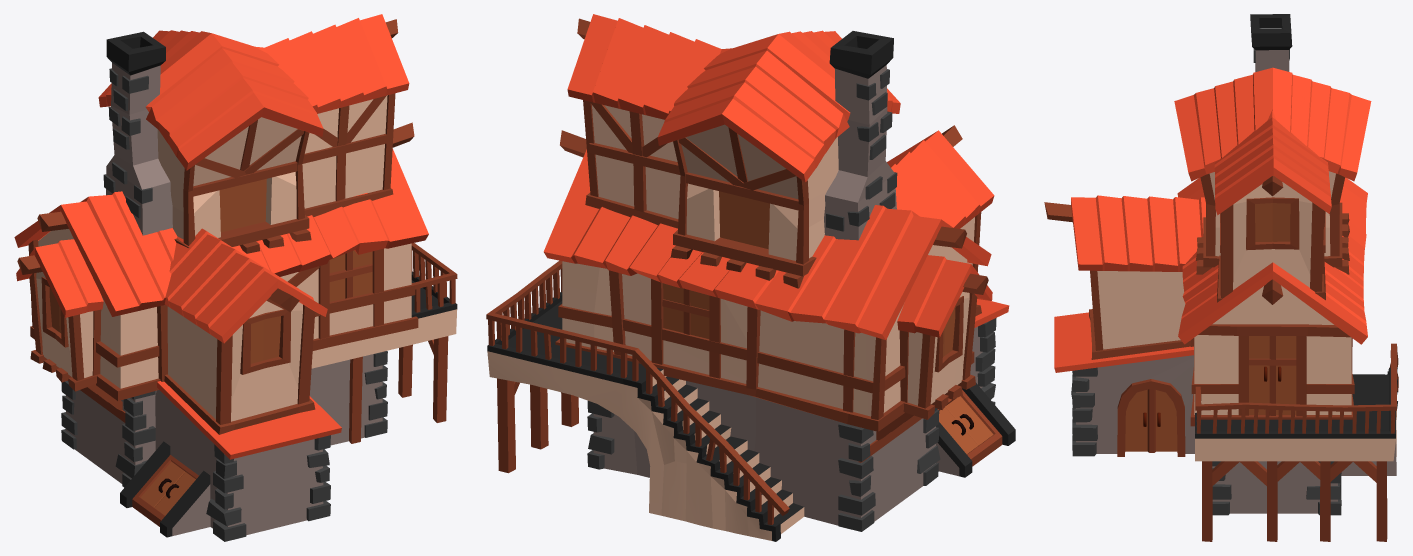
File: House-Large02.fbx
3 renders of one model, left to right at view 1: azimuth 30°, elevation 25°; view 2: azimuth 150°, elevation 25°; view 3: azimuth 270°, elevation 25°, orthographic. The views are drawn at different scales.
Visible parts, largest first — view 1: Cube.044, Cube.050, Cube.030, Cube.051, Cube.043, Cube.045, Cube.033, Cube.032, Cube.031; view 2: Cube.044, Cube.050, Cube.030, Cube.033, Cube.051, Cube.043, Cube.032, Cube.045, Cube.031; view 3: Cube.044, Cube.050, Cube.051, Cube.033, Cube.030, Cube.032, Cube.043, Cube.031, Cube.042.
Boxes of the visible parts, x1,y1,x2,y2 form: Cube.044: [28, 31, 448, 535]; Cube.050: [14, 14, 428, 459]; Cube.030: [157, 95, 387, 253]; Cube.051: [98, 30, 323, 170]; Cube.043: [61, 68, 387, 541]; Cube.045: [120, 441, 210, 537]; Cube.033: [311, 271, 457, 368]; Cube.032: [411, 243, 457, 312]; Cube.031: [37, 19, 414, 231]; Cube.044: [497, 31, 982, 525]; Cube.050: [543, 14, 1009, 339]; Cube.030: [588, 102, 838, 288]; Cube.033: [487, 292, 804, 541]; Cube.051: [657, 30, 900, 182]; Cube.043: [587, 69, 996, 531]; Cube.032: [486, 260, 789, 524]; Cube.045: [936, 383, 1015, 477]; Cube.031: [560, 18, 966, 248]; Cube.044: [1076, 14, 1387, 541]; Cube.050: [1054, 109, 1367, 372]; Cube.051: [1174, 67, 1371, 181]; Cube.033: [1195, 367, 1397, 475]; Cube.030: [1196, 171, 1349, 274]; Cube.032: [1195, 343, 1398, 433]; Cube.043: [1071, 48, 1341, 515]; Cube.031: [1262, 176, 1283, 304]; Cube.042: [1044, 202, 1072, 222].
Bounding box in the file's own units: 235 × 237 × 193.
